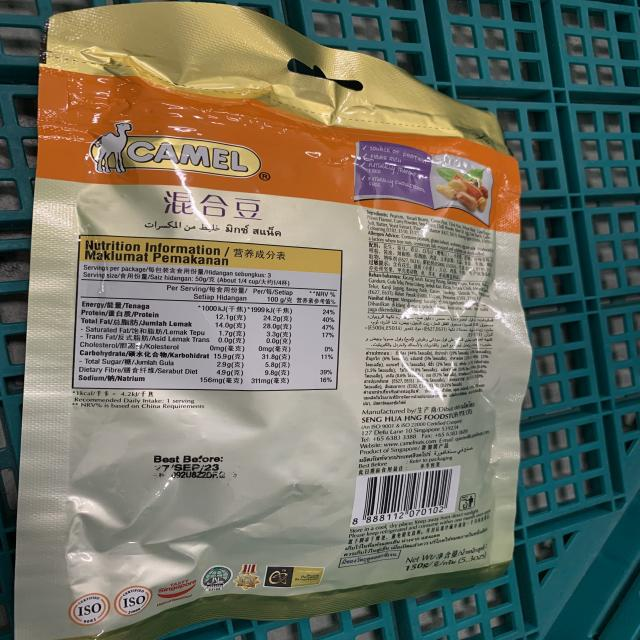object_name: (36, 7, 527, 605)
